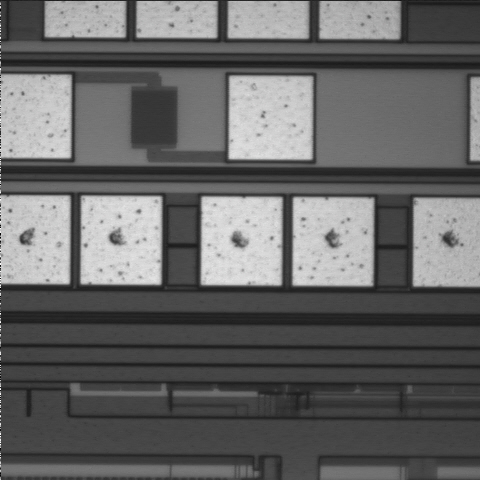pad: (201, 197, 282, 285), (81, 196, 161, 284), (293, 198, 373, 285), (229, 76, 312, 159)
